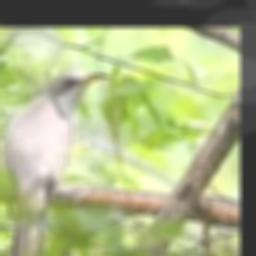Cuckoo: (2, 70, 110, 256)
